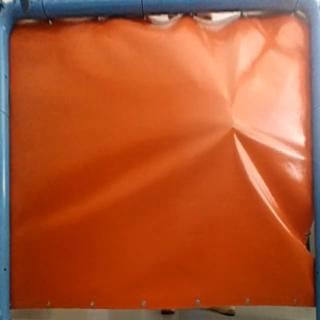Hit-hRxx: (227, 124, 236, 132)
